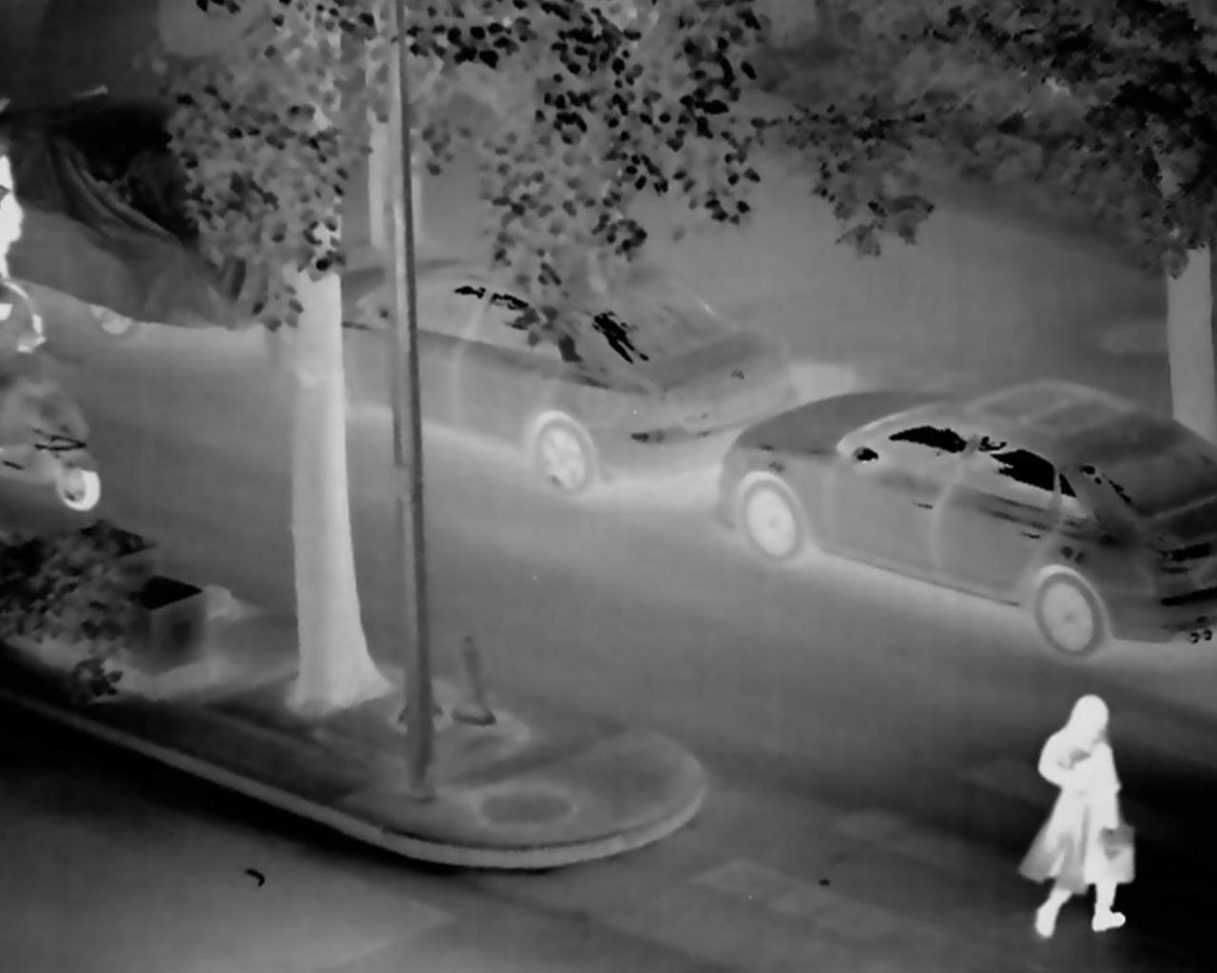person: (1030, 689, 1138, 940)
